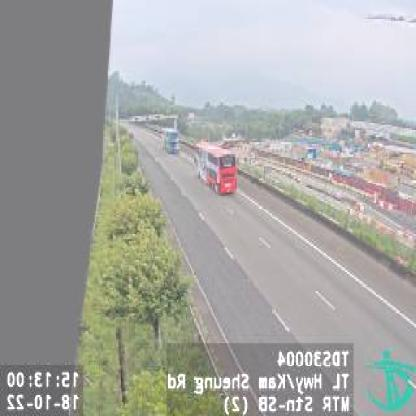Bus: (196, 144, 236, 196), (161, 127, 180, 155)
